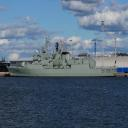Fragata: (6, 36, 119, 79)
